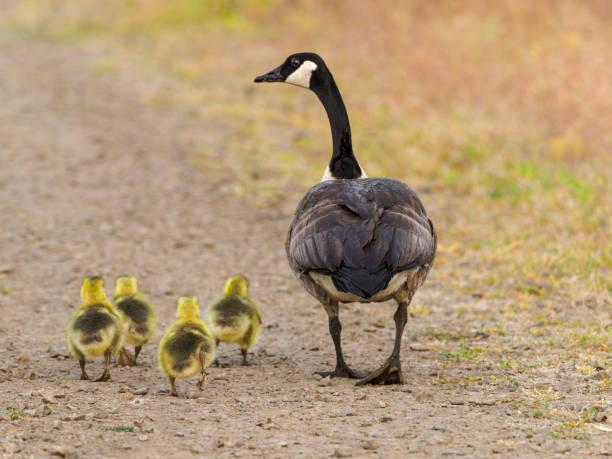Canadian-Goose: (252, 52, 442, 387), (60, 275, 126, 385), (156, 296, 215, 392), (210, 275, 264, 363), (114, 274, 156, 369)
